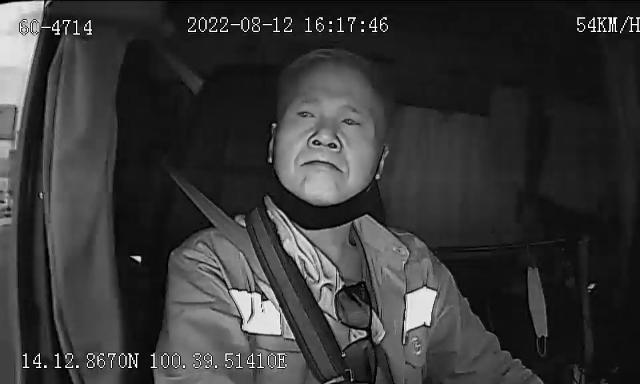SafeDriving: (334, 106, 368, 136), (288, 100, 323, 127)
Seatbelt: (174, 176, 356, 384)
